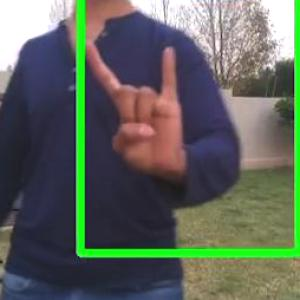takeoff-hand: (71, 0, 196, 206)
